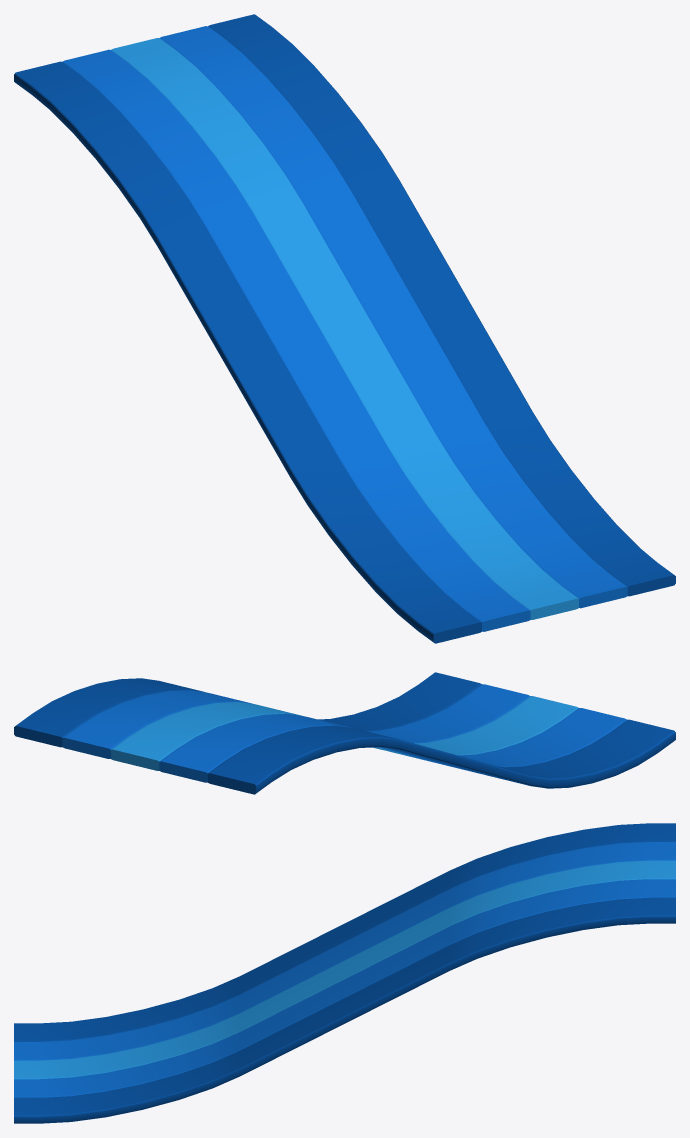
Rendered from platform_candy_006.glb.
3 renders of one model, top to bottom at view 1: azimuth 30°, elevation 25°; view 2: azimuth 150°, elevation 25°; view 3: azimuth 270°, elevation 25°, orthographic. The views are drawn at different scales.
Parts seen in each view (by area): view 1: platform_candy_006; view 2: platform_candy_006; view 3: platform_candy_006.
Part boxes in pixels (x1,y1,x2,y2): platform_candy_006: (14, 14, 675, 643); platform_candy_006: (14, 672, 675, 794); platform_candy_006: (14, 823, 675, 1123).
Size of the model in its own units: 12 by 12.5 by 36.
1 material, 1 textured.
